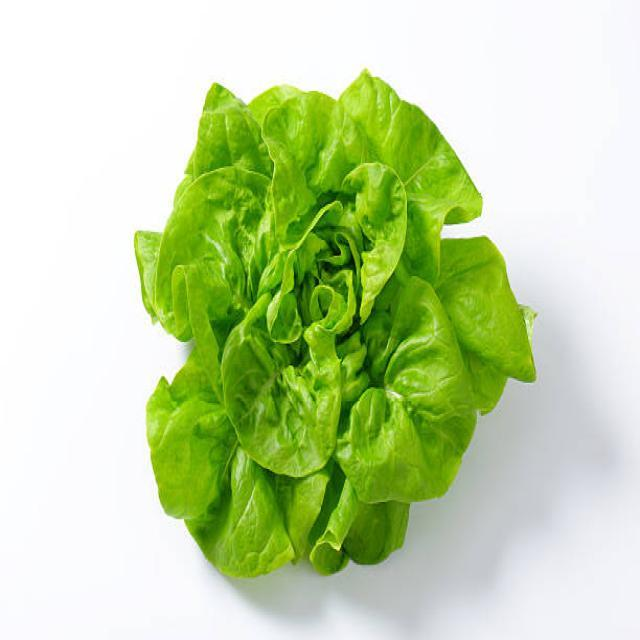Lettuce-Ready-to-Harvest: (135, 72, 535, 576)
